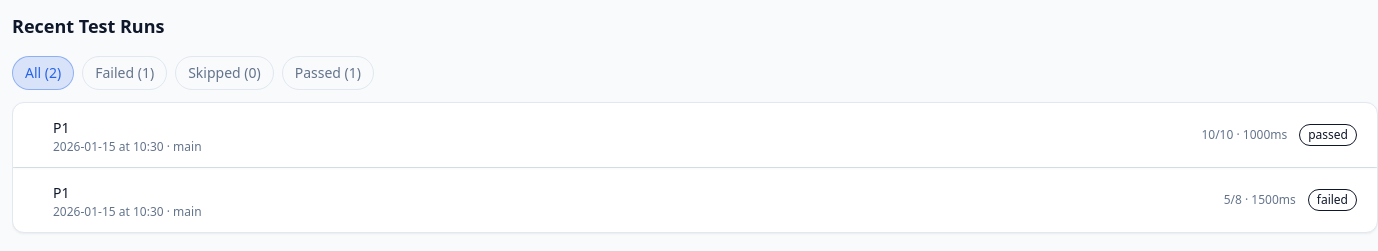
Test: RecentRuns › filters runs by status when filter button is clicked
This screenshot has width=1378, height=251.
expect the number of links is 2: met, box [13,103,1377,167]; [13,168,1377,232]
Note: Click "Failed" filter
Step 1. Click the button "Failed (1)" → (125, 73), box [82,56,167,90]
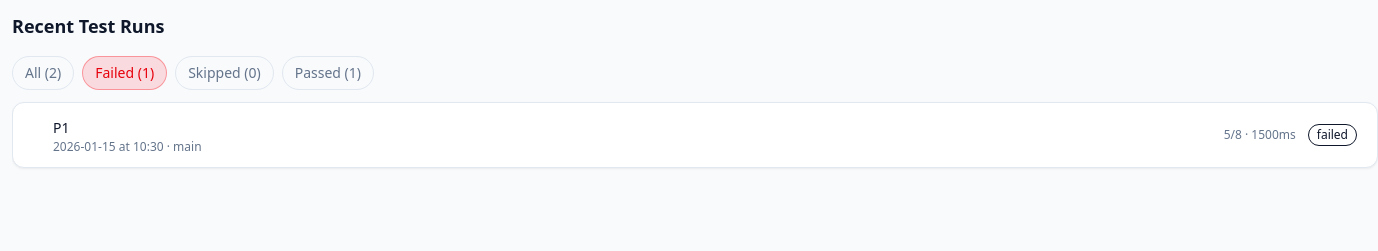
expect the number of links is 1: met, box [13,103,1377,167]
